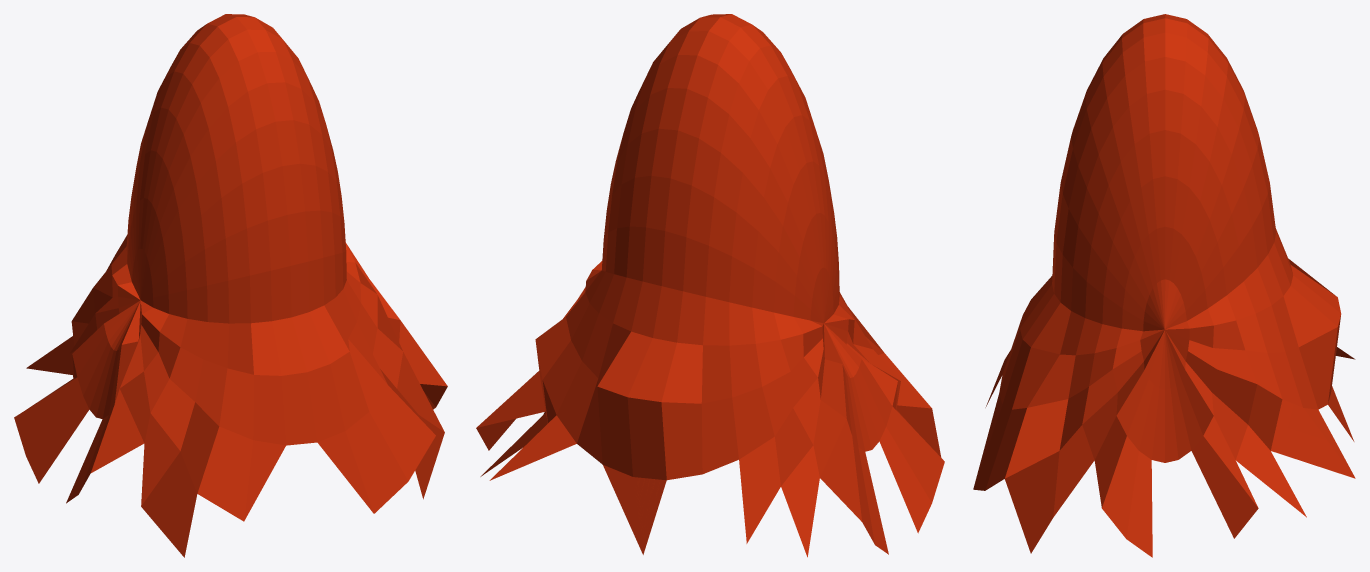
The model's file is projectile.obj.
3 renders of one model, left to right at view 1: azimuth 30°, elevation 25°; view 2: azimuth 150°, elevation 25°; view 3: azimuth 270°, elevation 25°, orthographic. The views are drawn at different scales.
Parts seen in each view (by area): view 1: Sphere; view 2: Sphere; view 3: Sphere.
Boxes of the visible parts, x1,y1,x2,y2 form: Sphere: (14,14,447,557); Sphere: (476,14,944,557); Sphere: (973,14,1355,557).
Size of the model in its own units: 3.73 by 4.63 by 3.38.
